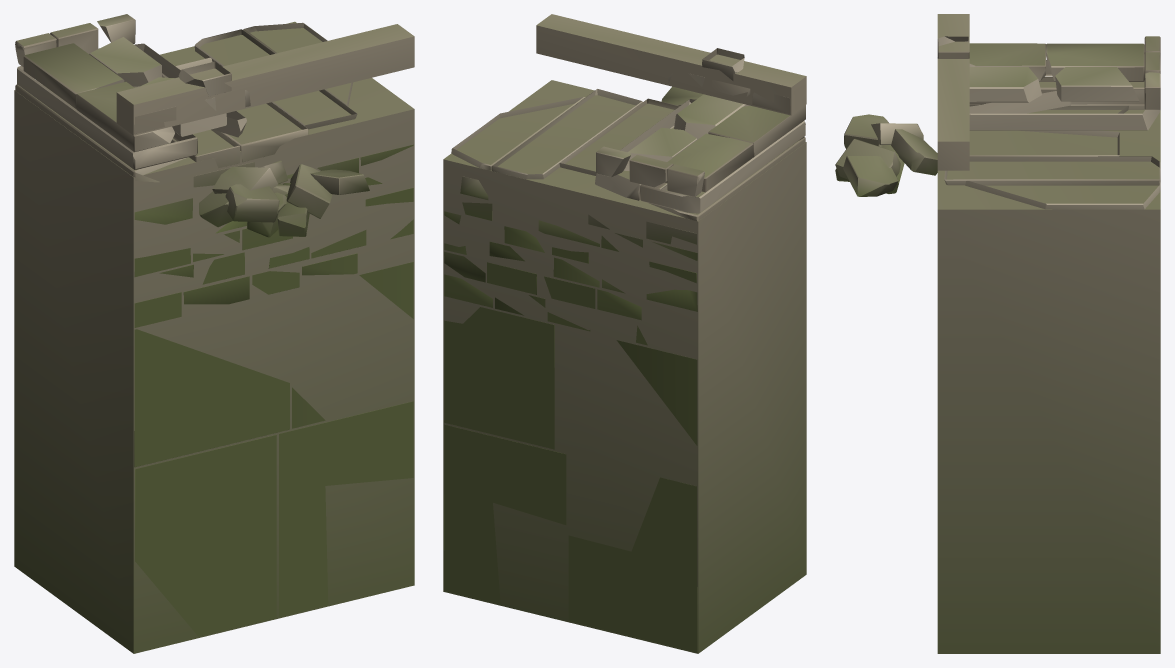
File: harbour_mole_broken.glb
3 renders of one model, left to right at view 1: azimuth 30°, elevation 25°; view 2: azimuth 150°, elevation 25°; view 3: azimuth 270°, elevation 25°, orthographic. The views are drawn at different scales.
Parts seen in each view (by area): view 1: harbour_mole_broken_far, harbour_mole_broken; view 2: harbour_mole_broken_far, harbour_mole_broken; view 3: harbour_mole_broken_far, harbour_mole_broken.
Boxes of the visible parts, x1=… form: harbour_mole_broken_far: x1=14, y1=21, x2=414, y2=653; harbour_mole_broken: x1=15, y1=14, x2=413, y2=636; harbour_mole_broken_far: x1=443, y1=14, x2=806, y2=653; harbour_mole_broken: x1=444, y1=48, x2=805, y2=652; harbour_mole_broken_far: x1=937, y1=14, x2=1160, y2=653; harbour_mole_broken: x1=835, y1=36, x2=1160, y2=209.
Bounding box in the file's own units: 19 × 35.99 × 20.46.
